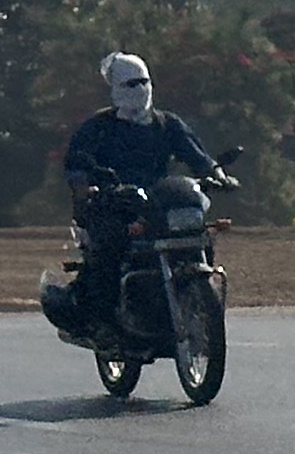BikeWithRider: (33, 45, 249, 408)
NoHelmet: (97, 47, 159, 119)
